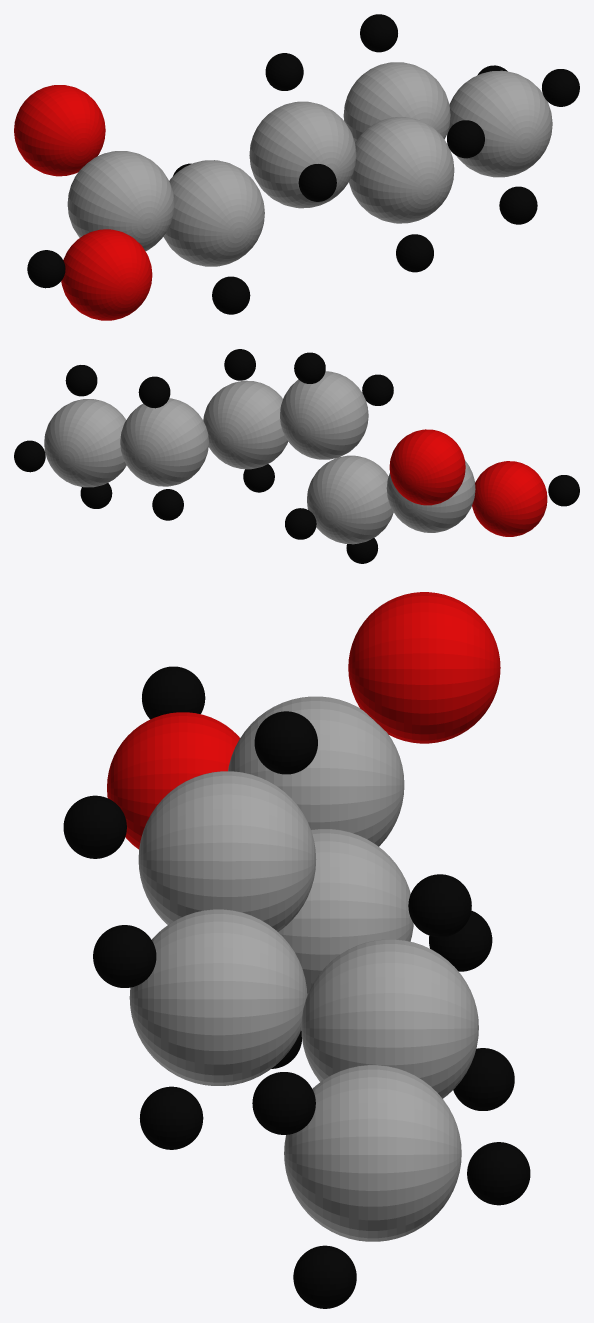
File: Hexanoic Acid.glb
3 renders of one model, top to bottom at view 1: azimuth 30°, elevation 25°; view 2: azimuth 150°, elevation 25°; view 3: azimuth 270°, elevation 25°, orthographic. The views are drawn at different scales.
Parts seen in each view (by area): view 1: world; view 2: world; view 3: world.
Part boxes in pixels (x1,y1,x2,y2): world: (14,14,579,320); world: (14,349,579,563); world: (63,592,530,1308).
Bounding box in the file's own units: 8.78 × 3.47 × 3.68.
